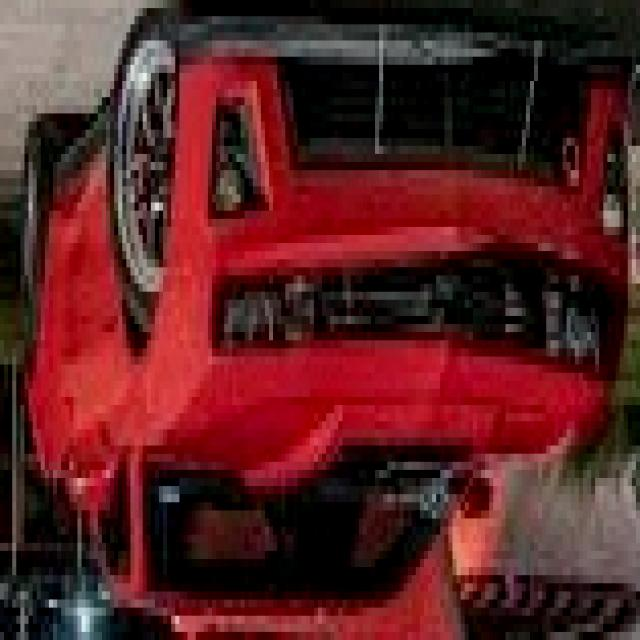red: (15, 58, 620, 611)
